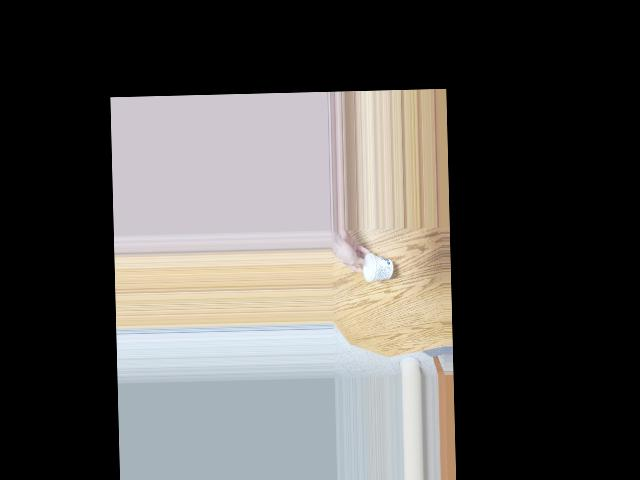cotage: (358, 251, 389, 284)
